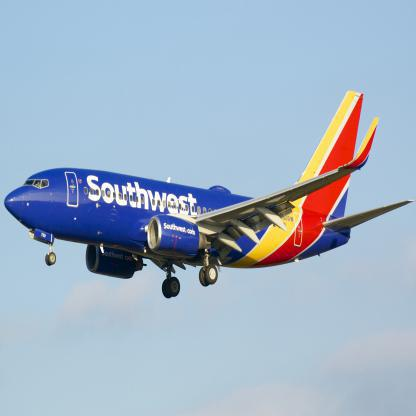CIV_Plane: (1, 88, 414, 301)
